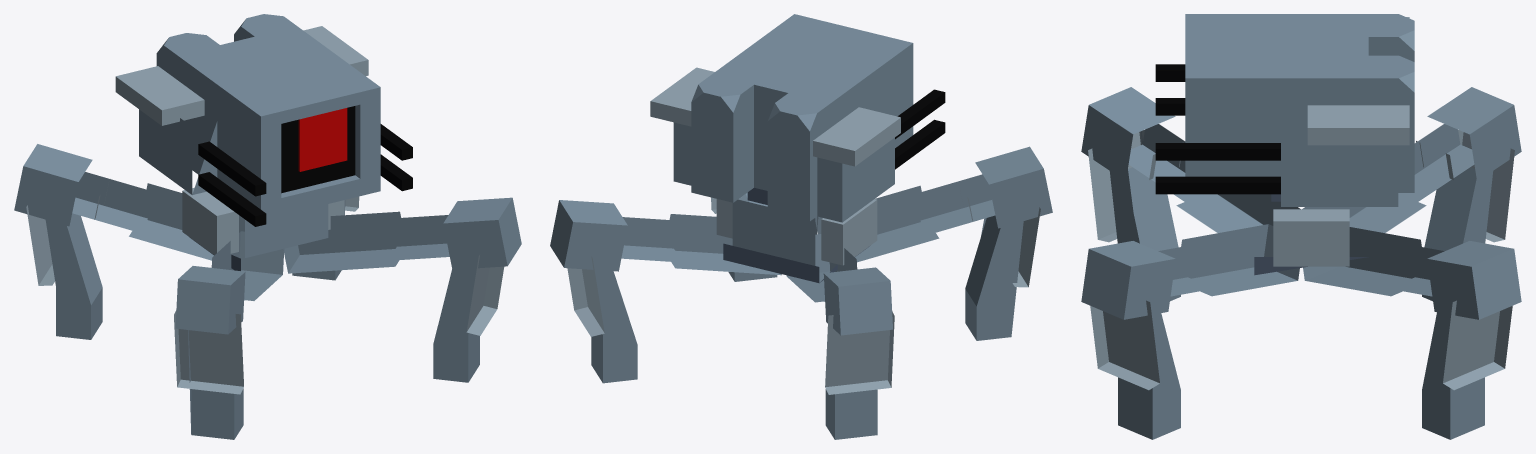
The model's file is walker.glb.
3 renders of one model, left to right at view 1: azimuth 30°, elevation 25°; view 2: azimuth 150°, elevation 25°; view 3: azimuth 270°, elevation 25°, orthographic. The views are drawn at different scales.
Parts seen in each view (by area): view 1: head, thighFrontR, thighRearL, shinFrontL, shinRearL, thighFrontL, body, shinFrontR, lens, shinRearR; view 2: head, thighFrontL, thighRearR, body, shinRearL, shinFrontL, shinRearR, thighRearL; view 3: head, thighFrontR, thighRearR, thighFrontL, thighRearL, shinRearR, shinFrontR, shinRearL, shinFrontL, body.
Part boxes in pixels (x1=…): head: x1=115, y1=14, x2=412, y2=226; thighFrontR: x1=283, y1=197, x2=521, y2=273; thighRearL: x1=14, y1=144, x2=244, y2=260; shinFrontL: x1=174, y1=310, x2=243, y2=439; shinRearL: x1=26, y1=205, x2=102, y2=339; thighFrontL: x1=175, y1=231, x2=284, y2=334; body: x1=182, y1=187, x2=344, y2=270; shinFrontR: x1=433, y1=255, x2=504, y2=382; lens: x1=298, y1=108, x2=347, y2=171; shinRearR: x1=292, y1=196, x2=359, y2=280; head: x1=650, y1=14, x2=945, y2=222; thighFrontL: x1=815, y1=146, x2=1052, y2=262; thighRearR: x1=550, y1=200, x2=781, y2=275; body: x1=716, y1=187, x2=877, y2=283; shinRearL: x1=825, y1=311, x2=894, y2=439; shinFrontL: x1=965, y1=207, x2=1040, y2=340; shinRearR: x1=567, y1=256, x2=637, y2=383; thighRearL: x1=786, y1=234, x2=892, y2=335; head: x1=1155, y1=14, x2=1414, y2=206; thighFrontR: x1=1081, y1=224, x2=1299, y2=319; thighRearR: x1=1303, y1=227, x2=1521, y2=319; thighFrontL: x1=1081, y1=87, x2=1300, y2=232; thighRearL: x1=1302, y1=87, x2=1521, y2=232; shinRearR: x1=1422, y1=300, x2=1512, y2=439; shinFrontR: x1=1090, y1=300, x2=1180, y2=439; shinRearL: x1=1422, y1=130, x2=1514, y2=301; shinFrontL: x1=1088, y1=130, x2=1180, y2=301; body: x1=1254, y1=194, x2=1368, y2=275.
Bounding box in the file's own units: 2.52 × 2 × 2.52.
